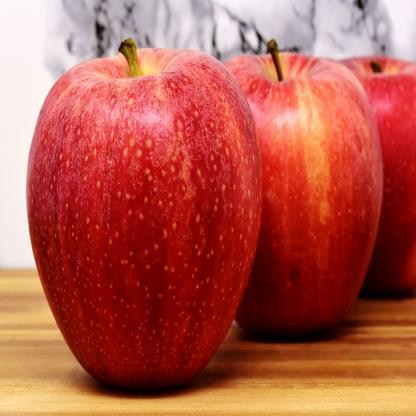apple: (23, 46, 261, 404), (193, 50, 384, 354), (296, 57, 416, 316)
